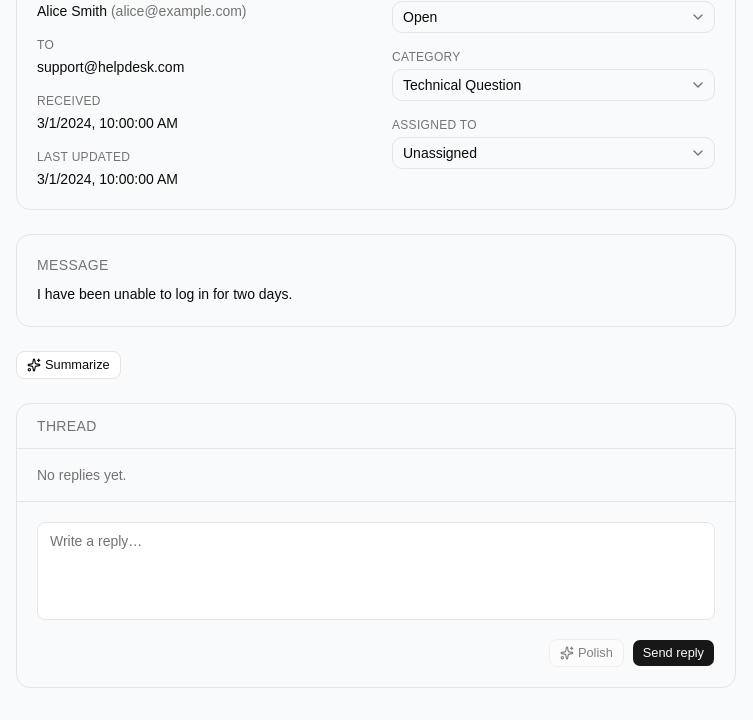
TicketDetailPage › reply form › posts the reply body and clears the textarea on success
(page scrolled)
Type "Hello, let me help you." into the text box with placeholder "Write a reply…" at {"x": 376, "y": 571}, box [37,522,715,620]
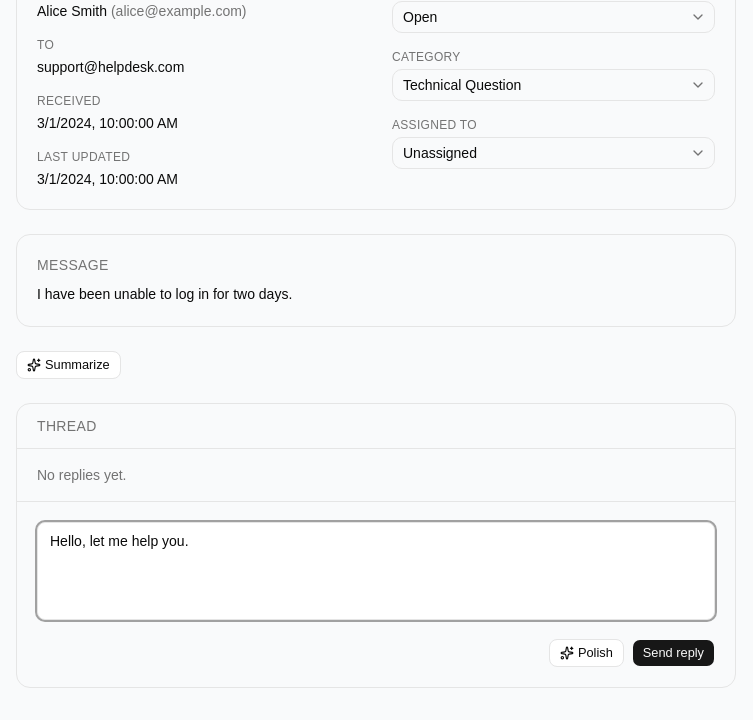
Click the button "Send reply" at {"x": 673, "y": 653}, box [632,639,715,667]
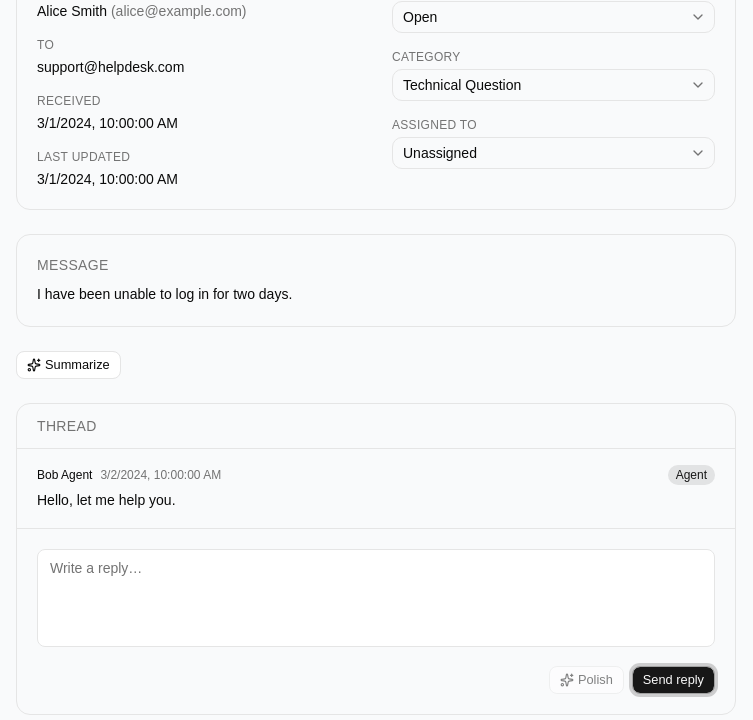
Now the text "Hello, let me help you." is shown, box [37,492,176,508]
